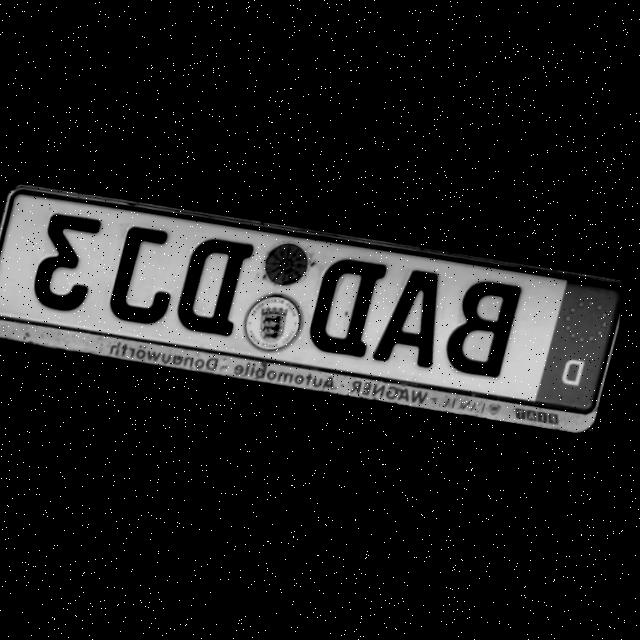license-plates: (0, 192, 621, 414)
